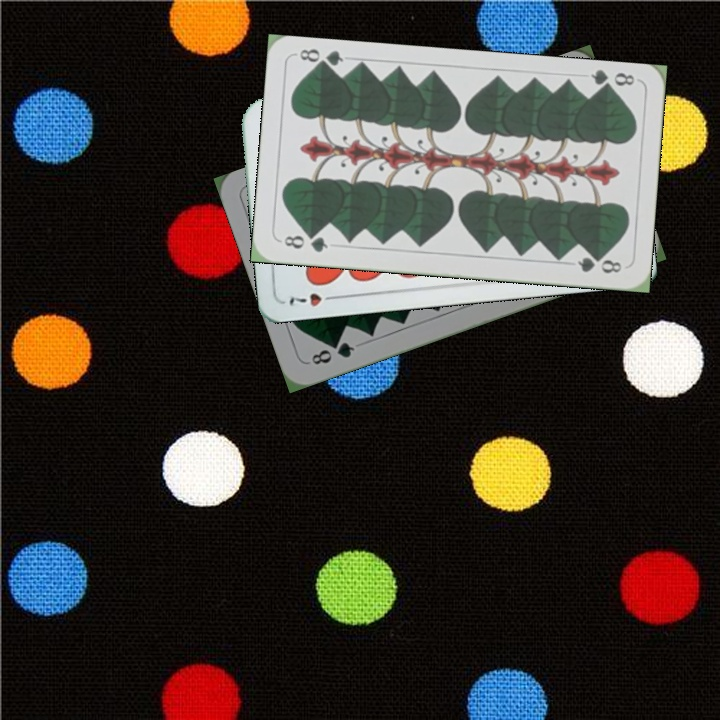G8: (307, 338, 358, 368), (587, 66, 637, 95), (280, 230, 331, 255)
H7: (285, 289, 342, 310)
